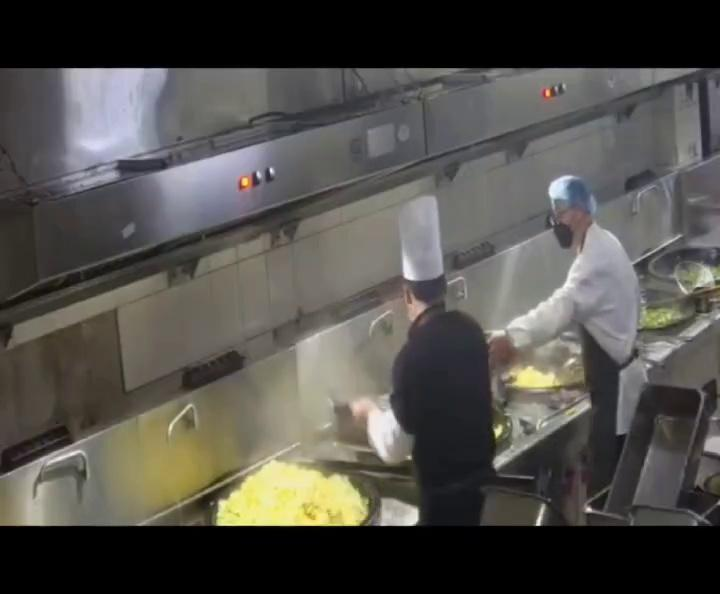gloves: (542, 172, 608, 217)
mask: (544, 221, 588, 254)
